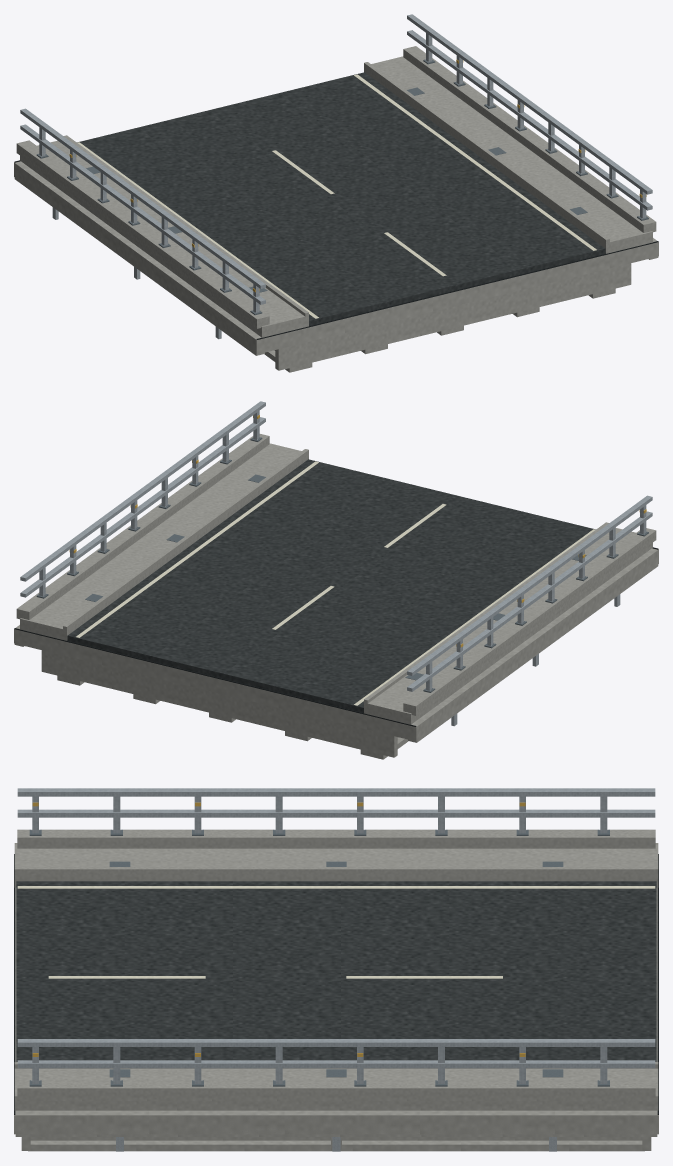
File: PZ_Bridge_Span_12m_Clean.glb
The picture shows the model from 3 angles, top to bottom: view 1: azimuth 30°, elevation 25°; view 2: azimuth 150°, elevation 25°; view 3: azimuth 270°, elevation 25°; orthographic projection. The views are drawn at different scales.
Parts seen in each view (by area): view 1: PZ_Bridge_Span_12m_Clean_PAVEMENT_2LANE, PZ_Bridge_Span_12m_Clean_SLAB_11400mm, PZ_Bridge_Span_12m_Clean_EAST_FOOTWAY, PZ_Bridge_Span_12m_Clean_TRANSVERSE_DIAPHRAGM_NEAR, PZ_Bridge_Span_12m_Clean_WEST_PARAPET_BASE, PZ_Bridge_Span_12m_Clean_WEST_FOOTWAY, PZ_Bridge_Span_12m_Clean_EAST_PARAPET_BASE, PZ_Bridge_Span_12m_Clean_EAST_KERB, PZ_Bridge_Span_12m_Clean_EAST_HANDRAIL_1220mm, PZ_Bridge_Span_12m_Clean_WEST_HANDRAIL_1220mm, PZ_Bridge_Span_12m_Clean_WEST_HANDRAIL_790mm, PZ_Bridge_Span_12m_Clean_EAST_HANDRAIL_790mm (+7 smaller); view 2: PZ_Bridge_Span_12m_Clean_PAVEMENT_2LANE, PZ_Bridge_Span_12m_Clean_SLAB_11400mm, PZ_Bridge_Span_12m_Clean_EAST_FOOTWAY, PZ_Bridge_Span_12m_Clean_TRANSVERSE_DIAPHRAGM_FAR, PZ_Bridge_Span_12m_Clean_WEST_PARAPET_BASE, PZ_Bridge_Span_12m_Clean_WEST_FOOTWAY, PZ_Bridge_Span_12m_Clean_EAST_PARAPET_BASE, PZ_Bridge_Span_12m_Clean_EAST_HANDRAIL_1220mm, PZ_Bridge_Span_12m_Clean_WEST_HANDRAIL_1220mm, PZ_Bridge_Span_12m_Clean_EAST_HANDRAIL_790mm, PZ_Bridge_Span_12m_Clean_WEST_HANDRAIL_790mm, PZ_Bridge_Span_12m_Clean_EAST_KERB (+7 smaller); view 3: PZ_Bridge_Span_12m_Clean_PAVEMENT_2LANE, PZ_Bridge_Span_12m_Clean_WEST_FOOTWAY, PZ_Bridge_Span_12m_Clean_SLAB_11400mm, PZ_Bridge_Span_12m_Clean_EAST_FOOTWAY, PZ_Bridge_Span_12m_Clean_EAST_PARAPET_BASE, PZ_Bridge_Span_12m_Clean_WEST_PARAPET_BASE, PZ_Bridge_Span_12m_Clean_GIRDER_5_BOTTOM_FLANGE, PZ_Bridge_Span_12m_Clean_WEST_HANDRAIL_1220mm, PZ_Bridge_Span_12m_Clean_EAST_HANDRAIL_790mm, PZ_Bridge_Span_12m_Clean_WEST_HANDRAIL_790mm, PZ_Bridge_Span_12m_Clean_EAST_HANDRAIL_1220mm, PZ_Bridge_Span_12m_Clean_WEST_KERB (+7 smaller).
Boxes of the visible parts, x1,y1,x2,y2 form: PZ_Bridge_Span_12m_Clean_PAVEMENT_2LANE: (77, 72, 605, 325); PZ_Bridge_Span_12m_Clean_SLAB_11400mm: (14, 161, 658, 354); PZ_Bridge_Span_12m_Clean_EAST_FOOTWAY: (364, 56, 652, 253); PZ_Bridge_Span_12m_Clean_TRANSVERSE_DIAPHRAGM_NEAR: (275, 263, 631, 370); PZ_Bridge_Span_12m_Clean_WEST_PARAPET_BASE: (16, 140, 269, 328); PZ_Bridge_Span_12m_Clean_WEST_FOOTWAY: (20, 140, 308, 337); PZ_Bridge_Span_12m_Clean_EAST_PARAPET_BASE: (403, 46, 656, 232); PZ_Bridge_Span_12m_Clean_EAST_KERB: (364, 62, 609, 249); PZ_Bridge_Span_12m_Clean_EAST_HANDRAIL_1220mm: (407, 14, 652, 194); PZ_Bridge_Span_12m_Clean_WEST_HANDRAIL_1220mm: (20, 108, 265, 288); PZ_Bridge_Span_12m_Clean_WEST_HANDRAIL_790mm: (20, 124, 265, 304); PZ_Bridge_Span_12m_Clean_EAST_HANDRAIL_790mm: (407, 30, 652, 210); PZ_Bridge_Span_12m_Clean_PAVEMENT_2LANE: (67, 459, 595, 712); PZ_Bridge_Span_12m_Clean_SLAB_11400mm: (14, 548, 658, 741); PZ_Bridge_Span_12m_Clean_EAST_FOOTWAY: (20, 443, 308, 640); PZ_Bridge_Span_12m_Clean_TRANSVERSE_DIAPHRAGM_FAR: (41, 650, 397, 757); PZ_Bridge_Span_12m_Clean_WEST_PARAPET_BASE: (403, 528, 656, 715); PZ_Bridge_Span_12m_Clean_WEST_FOOTWAY: (364, 528, 652, 724); PZ_Bridge_Span_12m_Clean_EAST_PARAPET_BASE: (16, 434, 269, 619); PZ_Bridge_Span_12m_Clean_EAST_HANDRAIL_1220mm: (20, 401, 265, 581); PZ_Bridge_Span_12m_Clean_WEST_HANDRAIL_1220mm: (407, 495, 652, 675); PZ_Bridge_Span_12m_Clean_EAST_HANDRAIL_790mm: (20, 417, 265, 597); PZ_Bridge_Span_12m_Clean_WEST_HANDRAIL_790mm: (407, 511, 652, 691); PZ_Bridge_Span_12m_Clean_EAST_KERB: (63, 449, 308, 635); PZ_Bridge_Span_12m_Clean_PAVEMENT_2LANE: (16, 881, 656, 1061); PZ_Bridge_Span_12m_Clean_WEST_FOOTWAY: (14, 843, 658, 887); PZ_Bridge_Span_12m_Clean_SLAB_11400mm: (14, 887, 658, 1134); PZ_Bridge_Span_12m_Clean_EAST_FOOTWAY: (14, 1068, 658, 1110); PZ_Bridge_Span_12m_Clean_EAST_PARAPET_BASE: (17, 1080, 655, 1101); PZ_Bridge_Span_12m_Clean_WEST_PARAPET_BASE: (17, 829, 655, 848); PZ_Bridge_Span_12m_Clean_GIRDER_5_BOTTOM_FLANGE: (28, 1140, 644, 1151); PZ_Bridge_Span_12m_Clean_WEST_HANDRAIL_1220mm: (17, 788, 655, 796); PZ_Bridge_Span_12m_Clean_EAST_HANDRAIL_790mm: (17, 1060, 655, 1068); PZ_Bridge_Span_12m_Clean_WEST_HANDRAIL_790mm: (17, 809, 655, 817); PZ_Bridge_Span_12m_Clean_EAST_HANDRAIL_1220mm: (17, 1039, 655, 1046); PZ_Bridge_Span_12m_Clean_WEST_KERB: (14, 867, 658, 880).
Bounding box in the file's own units: 11.4 × 2.66 × 11.92.
7 materials, 7 textured.
